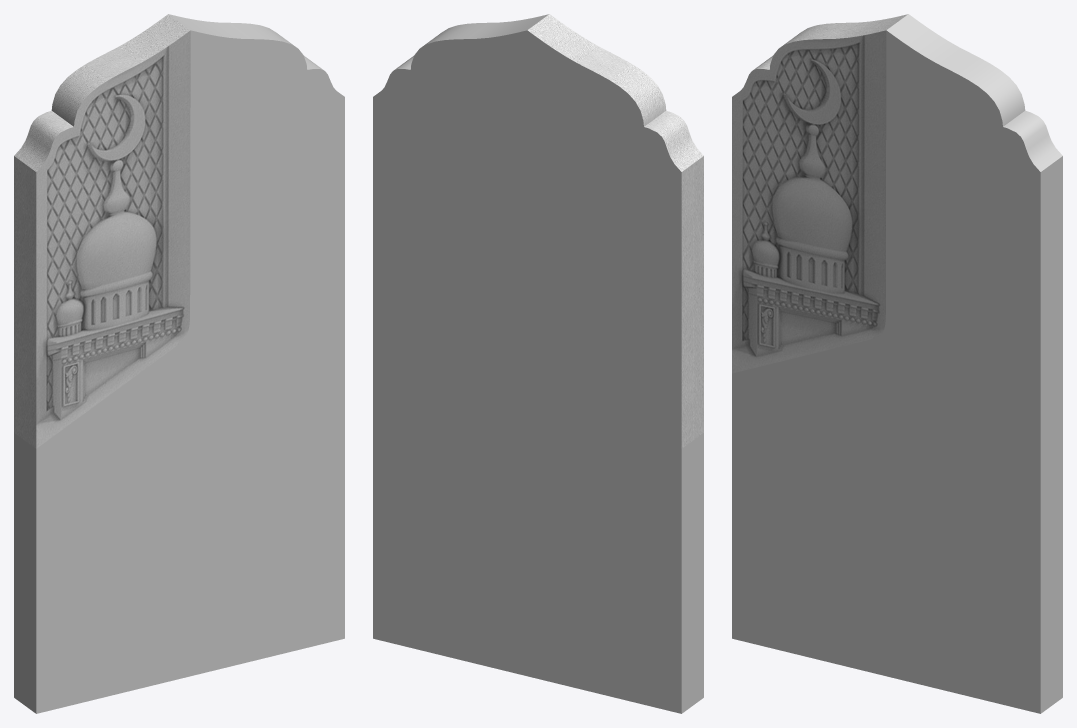
The model's file is cnce76e1a763_tkf.glb.
The picture shows the model from 3 angles, left to right: view 1: azimuth 30°, elevation 25°; view 2: azimuth 150°, elevation 25°; view 3: azimuth 330°, elevation 25°; orthographic projection.
Parts seen in each view (by area): view 1: Pam-d03-008, Pam-d03-008_2_notexture; view 2: Pam-d03-008, Pam-d03-008_2_notexture; view 3: Pam-d03-008, Pam-d03-008_2_notexture.
Part boxes in pixels (left/top/right/bottom): Pam-d03-008: left=14, top=14, right=344, bottom=713; Pam-d03-008_2_notexture: left=14, top=14, right=190, bottom=448; Pam-d03-008: left=373, top=14, right=703, bottom=713; Pam-d03-008_2_notexture: left=527, top=14, right=703, bottom=448; Pam-d03-008: left=732, top=14, right=1062, bottom=713; Pam-d03-008_2_notexture: left=732, top=14, right=907, bottom=373.
Bounding box in the file's own units: 0.4 × 0.8 × 0.05.
1 material, 1 textured.
